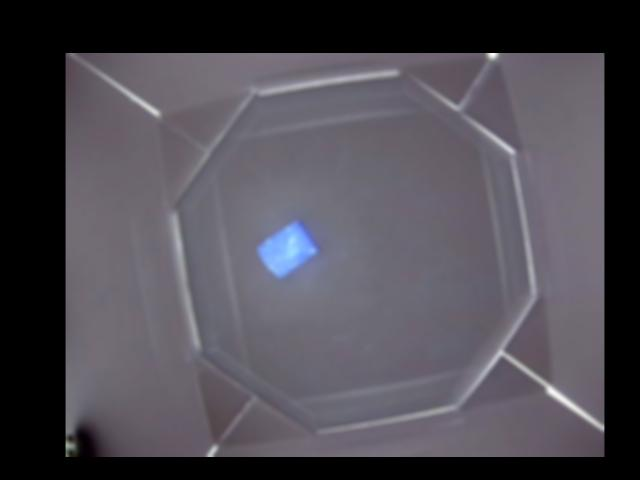Potato: (255, 218, 319, 280)
